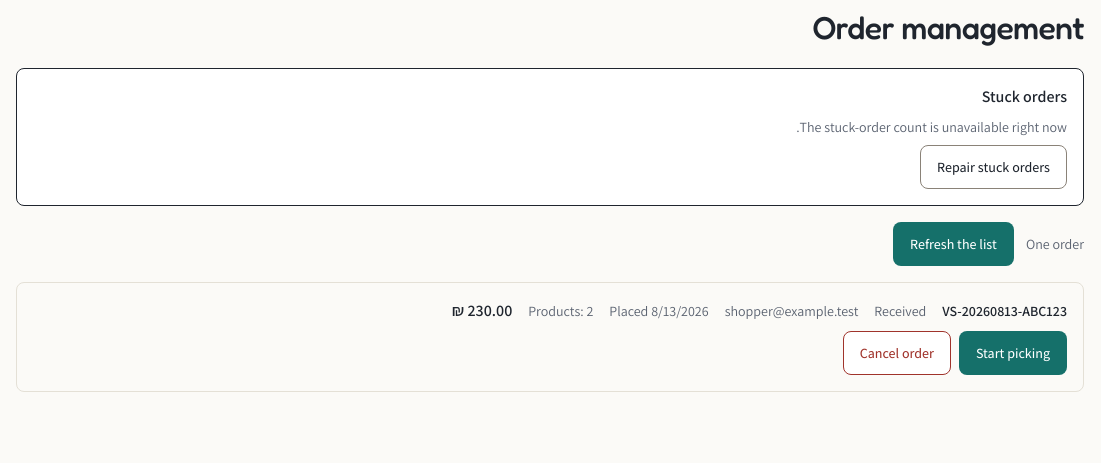
Test: moving an order › 🔴 cancelling asks first — it is irreversible › backing out sends nothing and restores the buttons
Click the button "Cancel order". click: (897, 353)
box: [843,331,951,375]
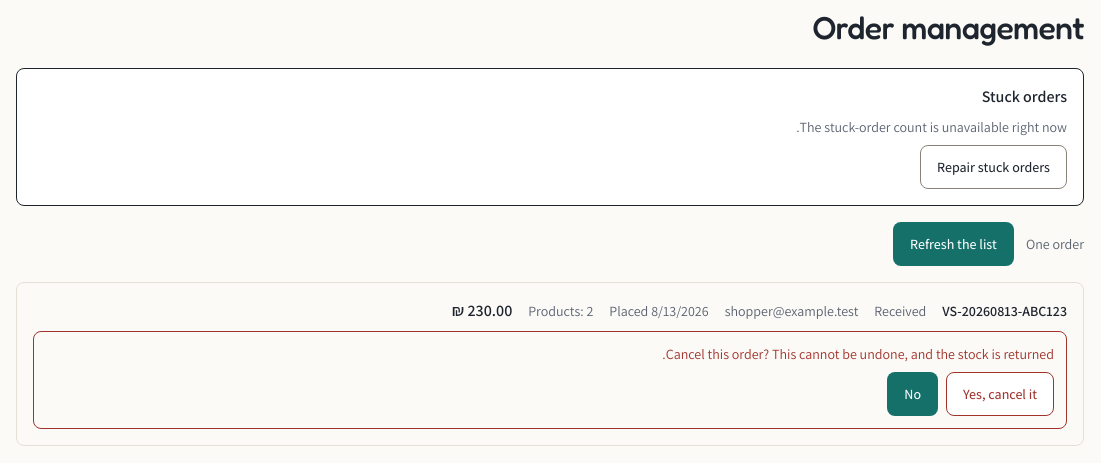
Click the button "No". click: (913, 394)
box: [887,372,938,416]
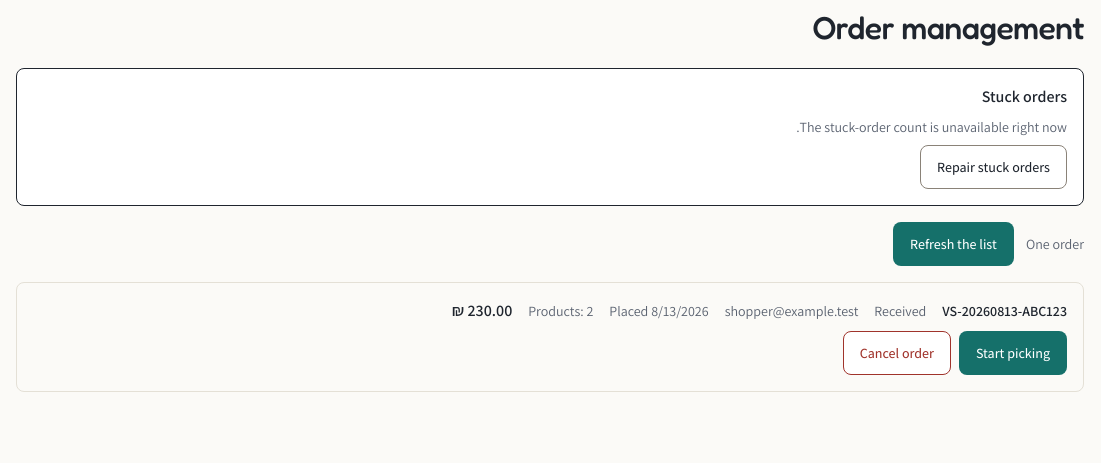
Now the button "Start picking" is shown, box [959,331,1067,375]
